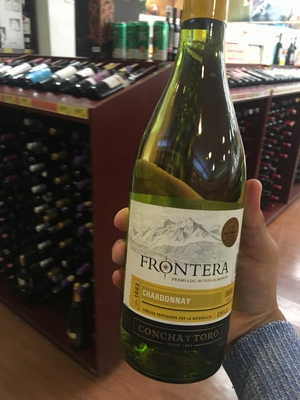frontera chardonnay: (122, 28, 251, 375)
